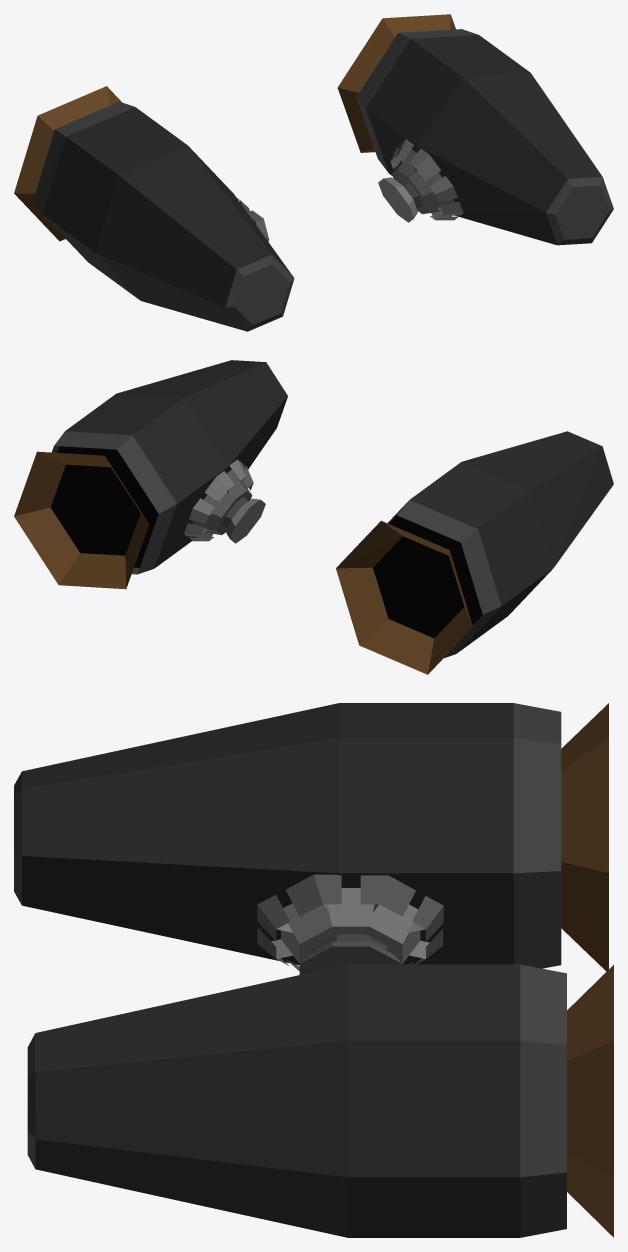
The model's file is Vehecle_Engine.FBX.
3 views of the same model, one above another, from view 1: azimuth 30°, elevation 25°; view 2: azimuth 150°, elevation 25°; view 3: azimuth 270°, elevation 25° (orthographic). The views are drawn at different scales.
Parts seen in each view (by area): view 1: VIFS005, VIFS019, VIFS020, VIFS006, VIFS018, VIFS004, VIFS015, VIFS016; view 2: VIFS005, VIFS019, VIFS004, VIFS018, VIFS008, VIFS022, VIFS020, VIFS006, VIFS015, VIFS021, VIFS007, VIFS016; view 3: VIFS019, VIFS005, VIFS006, VIFS020, VIFS004, VIFS018, VIFS012, VIFS013.
Part boxes in pixels (x1,y1,x2,y2): VIFS005: [42, 107, 293, 331]; VIFS019: [366, 35, 602, 245]; VIFS020: [356, 29, 613, 245]; VIFS006: [33, 101, 294, 331]; VIFS018: [337, 14, 455, 152]; VIFS004: [14, 86, 121, 241]; VIFS015: [378, 139, 463, 222]; VIFS016: [390, 148, 454, 219]; VIFS005: [410, 431, 613, 653]; VIFS019: [65, 360, 287, 568]; VIFS004: [336, 520, 472, 674]; VIFS018: [14, 451, 149, 589]; VIFS008: [373, 536, 464, 638]; VIFS022: [50, 464, 140, 555]; VIFS020: [51, 431, 176, 574]; VIFS006: [387, 500, 501, 657]; VIFS015: [184, 459, 265, 543]; VIFS021: [57, 446, 158, 567]; VIFS007: [389, 515, 482, 624]; VIFS016: [192, 468, 253, 540]; VIFS019: [35, 964, 520, 1237]; VIFS005: [22, 703, 513, 965]; VIFS006: [14, 703, 561, 968]; VIFS020: [27, 964, 566, 1237]; VIFS004: [561, 703, 608, 971]; VIFS018: [567, 965, 613, 1237]; VIFS012: [257, 874, 443, 974]; VIFS013: [271, 888, 429, 963].
Size of the model in its own units: 1.51 by 0.4508 by 1.02.
